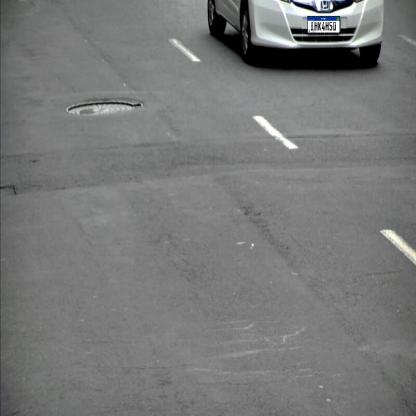PlacaM: (307, 16, 340, 33)
